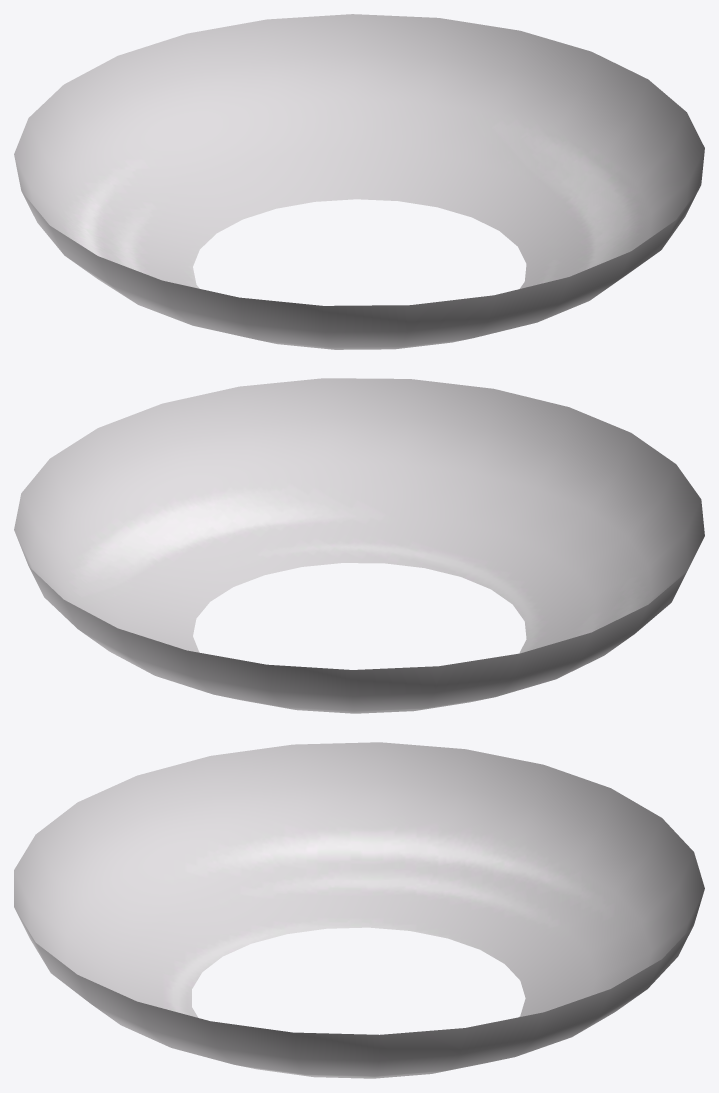
File: dimianhuanxing.FBX
3 renders of one model, top to bottom at view 1: azimuth 30°, elevation 25°; view 2: azimuth 150°, elevation 25°; view 3: azimuth 270°, elevation 25°, orthographic.
Parts seen in each view (by area): view 1: Sphere01; view 2: Sphere01; view 3: Sphere01.
Part boxes in pixels (x1,y1,x2,y2): Sphere01: [14, 14, 704, 349]; Sphere01: [14, 378, 704, 713]; Sphere01: [14, 742, 704, 1078].
Bounding box in the file's own units: 37.08 × 6.48 × 37.01.
